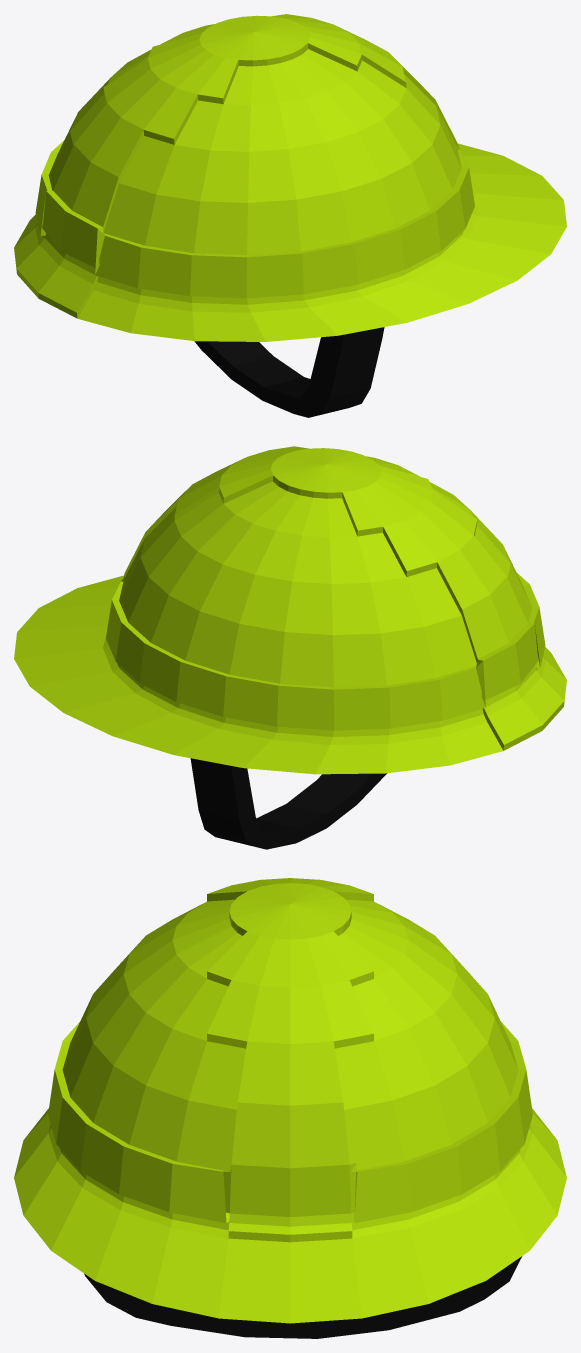
File: Hard hat.obj
3 views of the same model, one above another, from view 1: azimuth 30°, elevation 25°; view 2: azimuth 150°, elevation 25°; view 3: azimuth 270°, elevation 25° (orthographic). The views are drawn at different scales.
Visible parts, largest first — view 1: Sphere001, Box001; view 2: Sphere001, Box001; view 3: Sphere001, Box001.
Part boxes in pixels (left/top/right/bottom): Sphere001: left=14, top=14, right=566, bottom=341; Box001: left=194, top=327, right=384, bottom=417; Sphere001: left=14, top=446, right=566, bottom=774; Box001: left=190, top=758, right=386, bottom=849; Sphere001: left=14, top=878, right=566, bottom=1323; Box001: left=84, top=1256, right=522, bottom=1338.
Bounding box in the file's own units: 555139 × 371620 × 445502.
